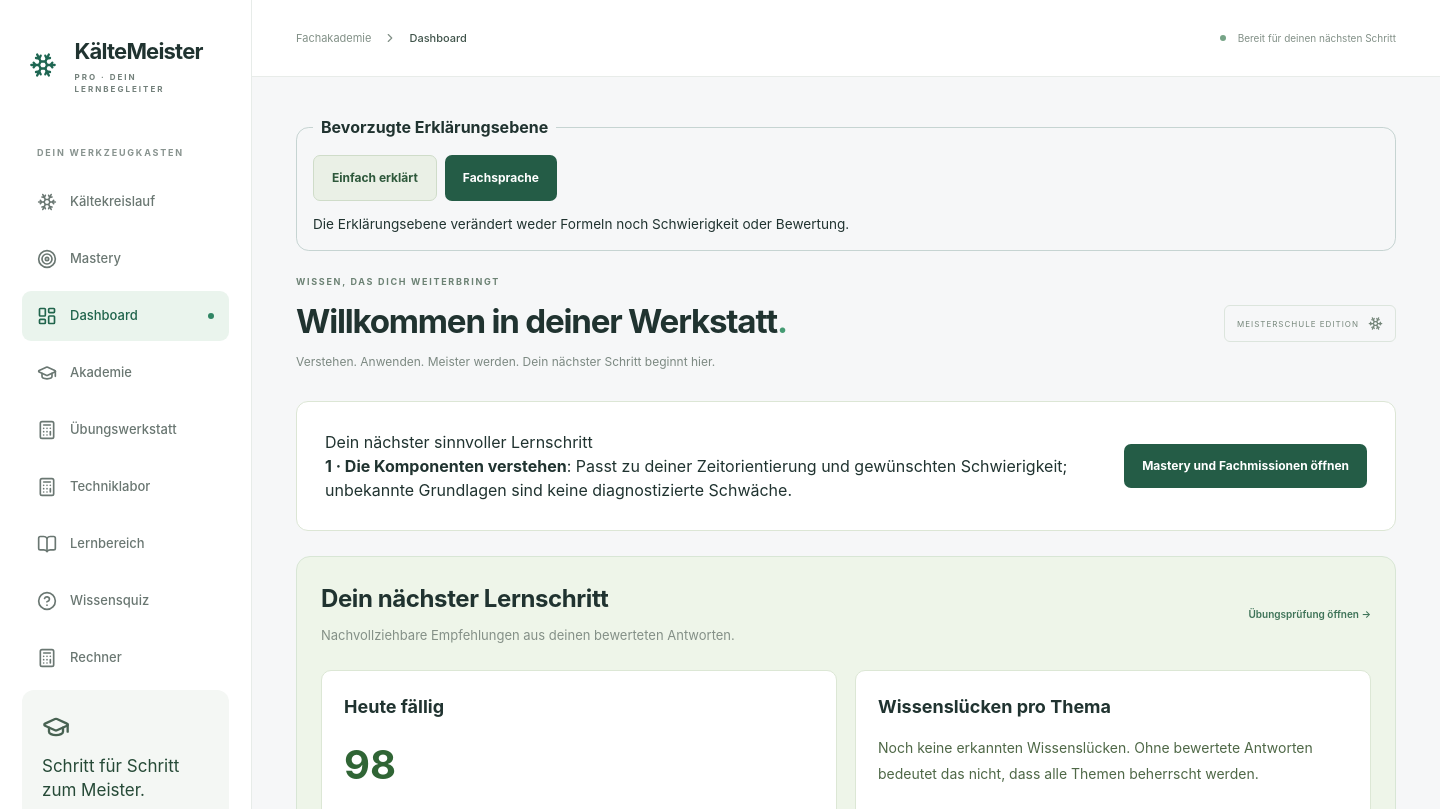
Test case: berechnet das Beispiel und entfernt veraltete Ergebnisse bei Eingabeänderungen
Click the button "Rechner" at point(126, 658), box [22, 632, 229, 682]
(page scrolled)
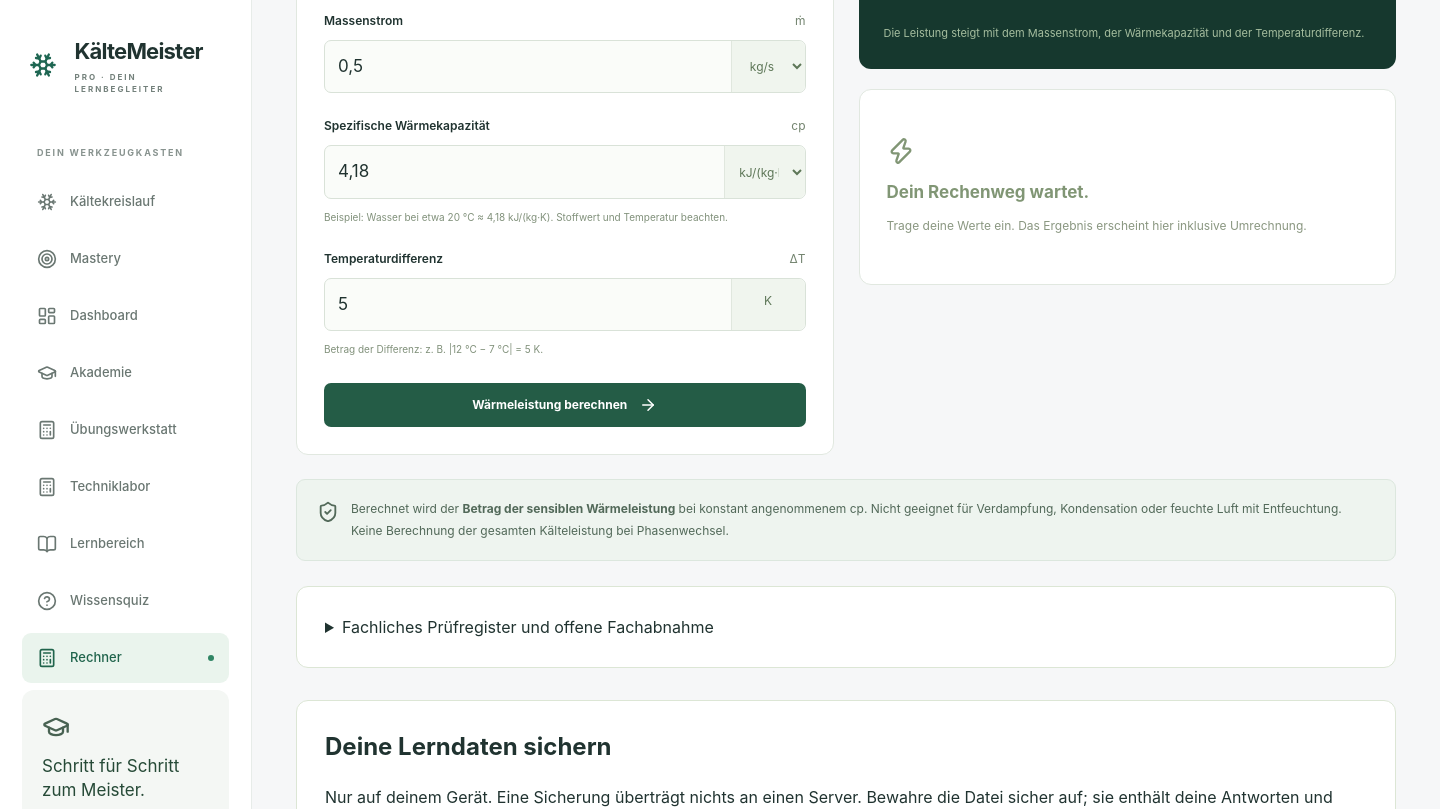
Click the button "Wärmeleistung berechnen" at point(565, 406), box [324, 384, 806, 428]
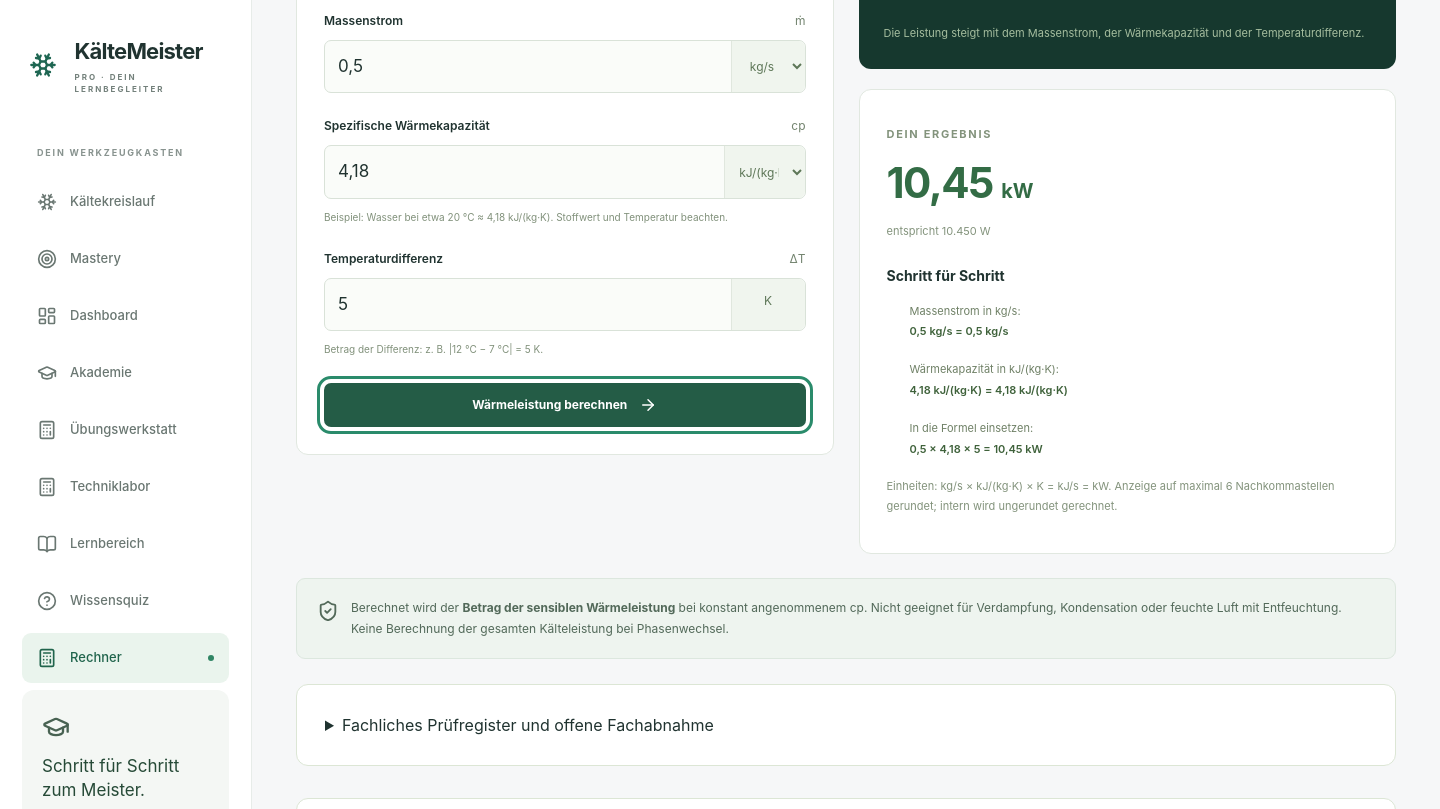
Result: the text "10,45" is shown at [886, 157, 993, 208]
Clear the field labelled "Massenstrom ṁ" at point(528, 67), box [325, 41, 730, 92]
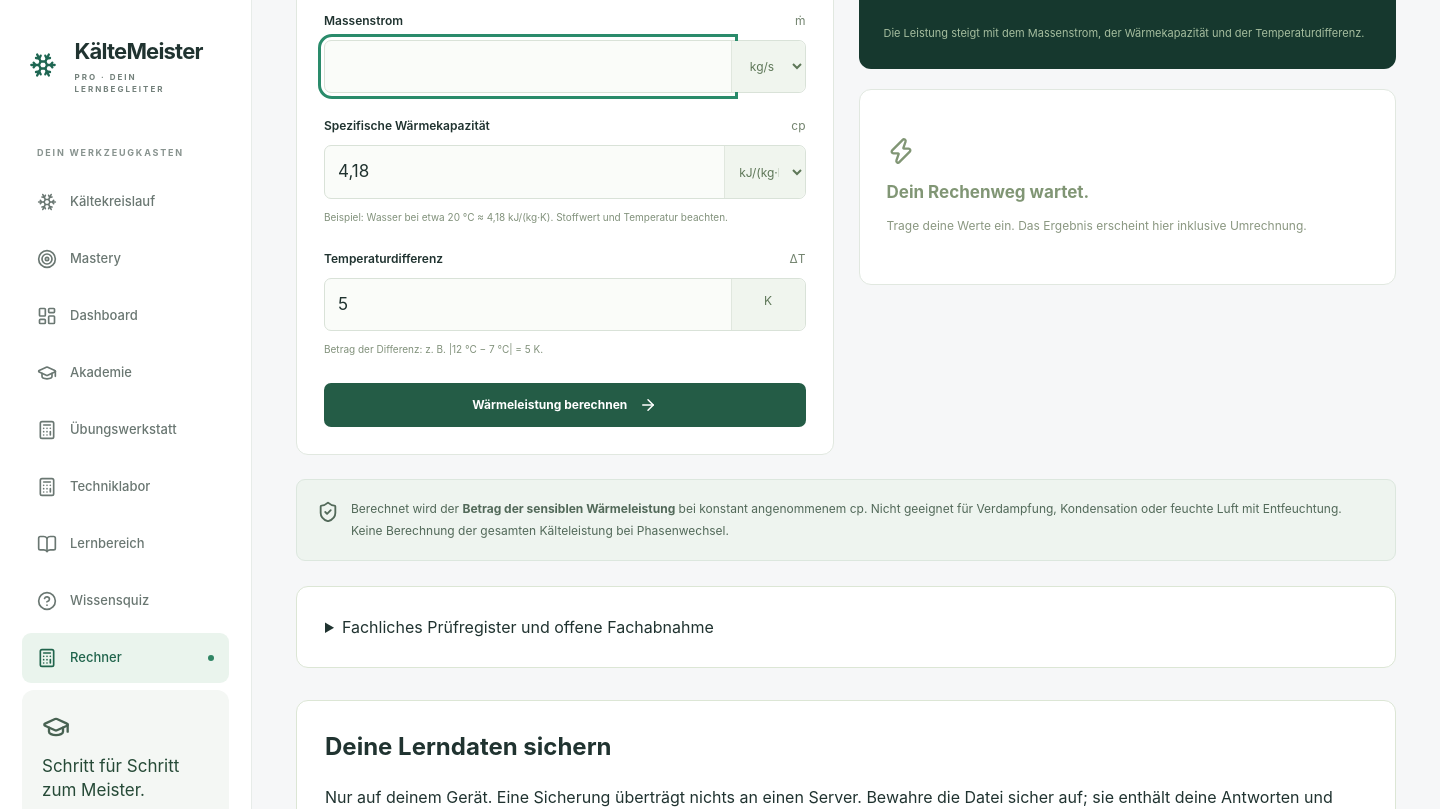
Result: the text "DEIN ERGEBNIS" is gone
Click the button "Wärmeleistung berechnen" at point(565, 406), box [324, 384, 806, 428]
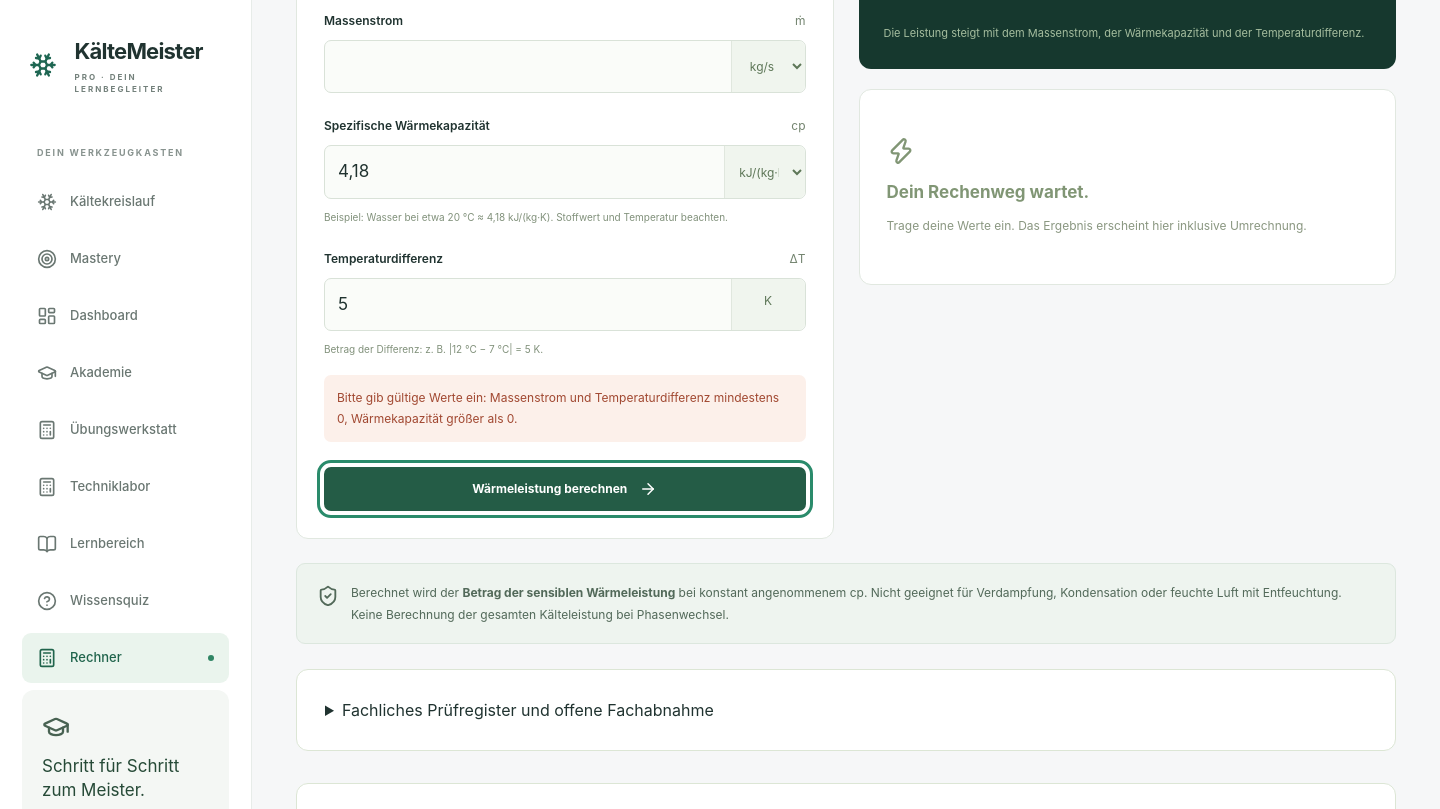
Result: the message shows "Bitte gib gültige Werte ein" at [337, 390, 779, 426]
